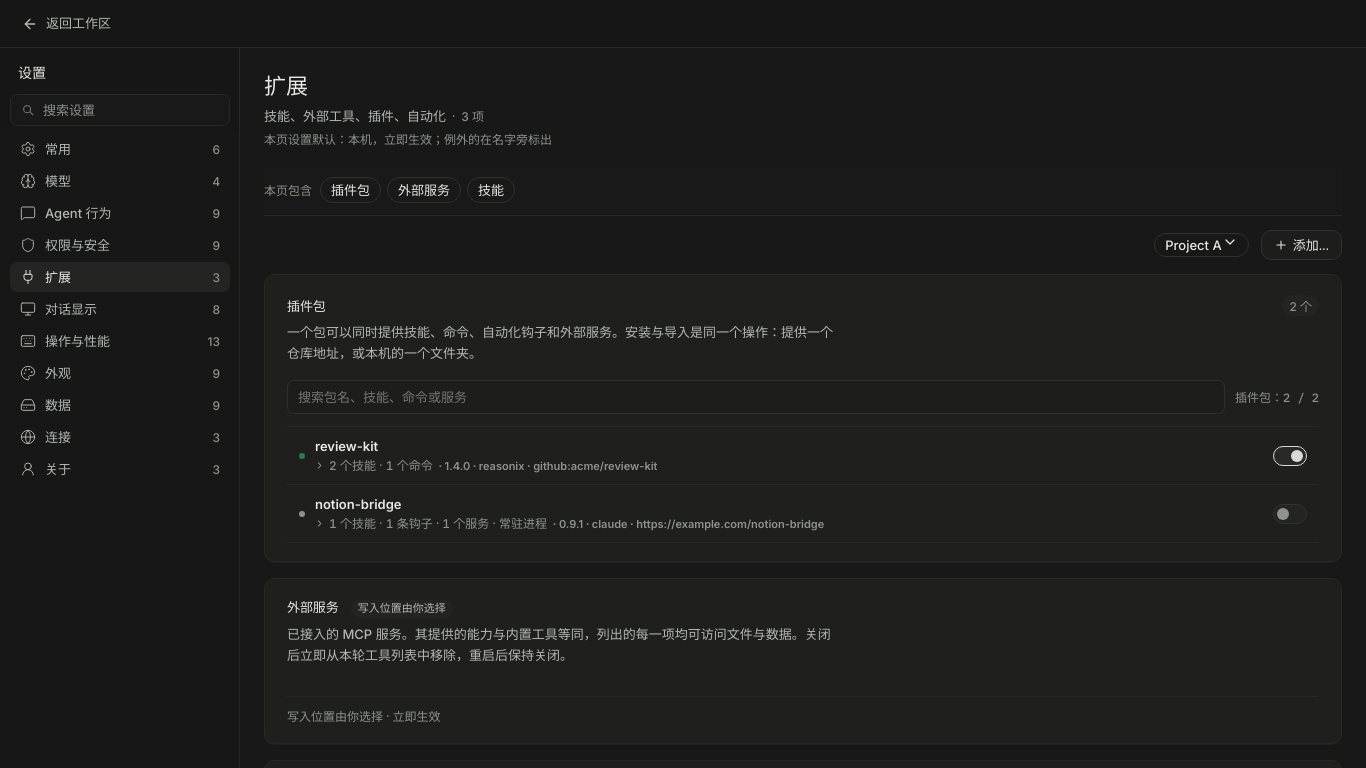
Test case: keeps the selected project's skills when the previous read finishes late
The width and height of the screenshot is (1366, 768).
Click the tab "权限与安全 9". click: click(120, 245)
box: [10,230,230,260]
(page scrolled)
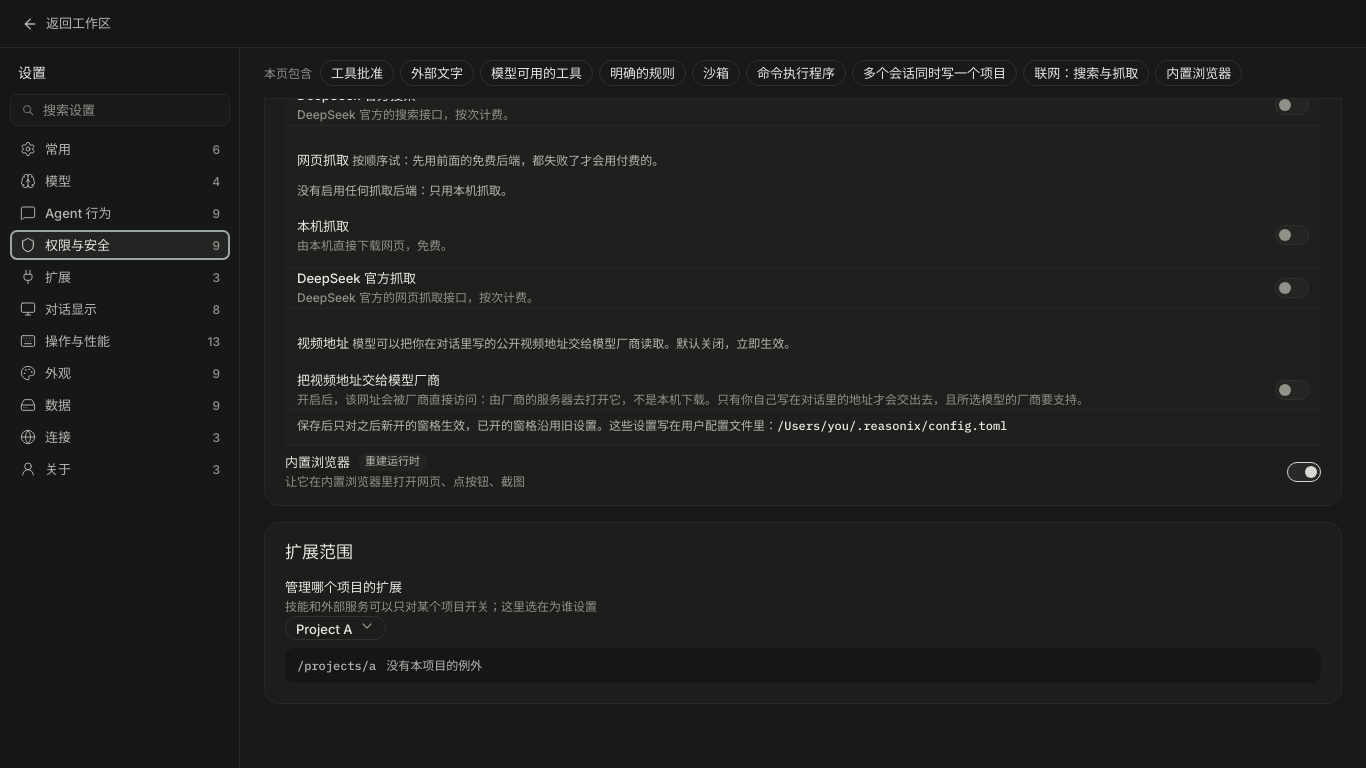
Click the button "Project A". click: click(335, 628)
box: [285,616,386,640]
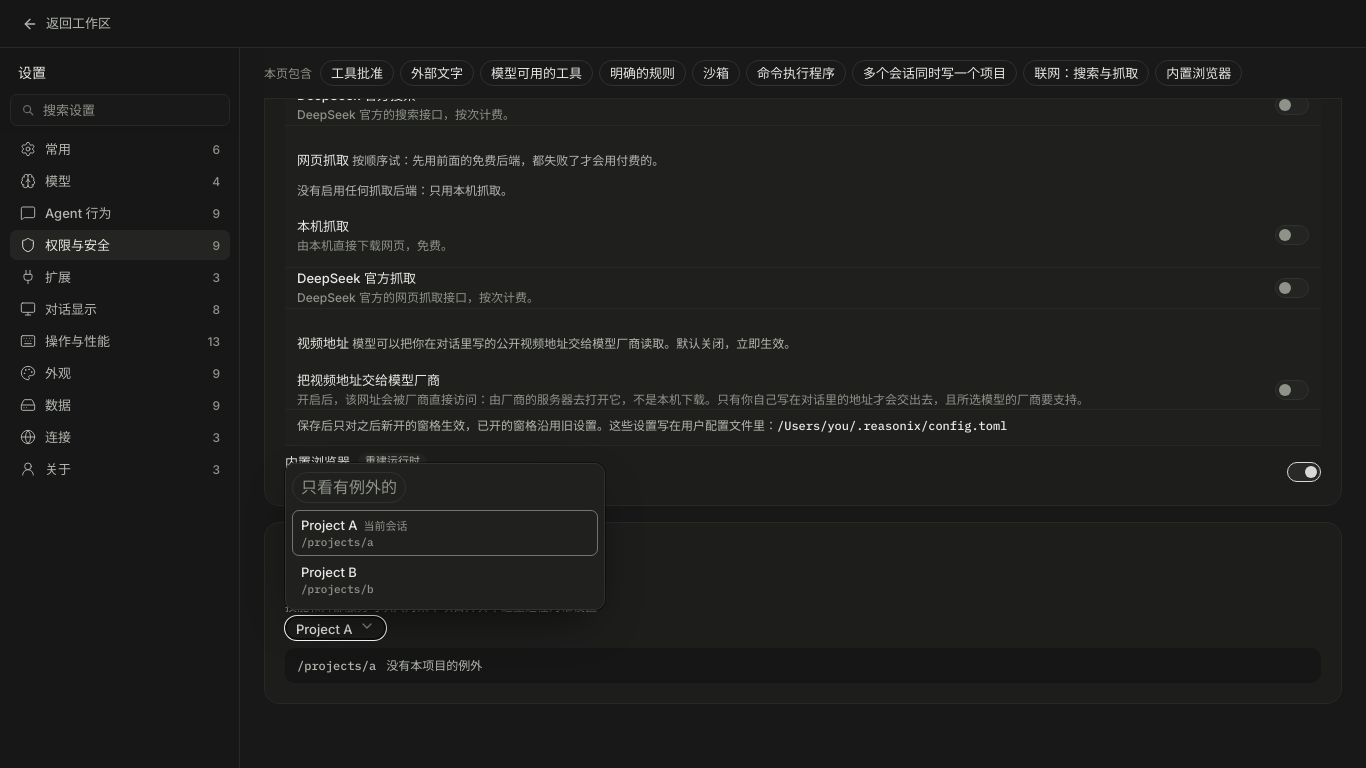
Click the option "Project B /projects/b". click: click(329, 572)
box: [292,557,598,603]
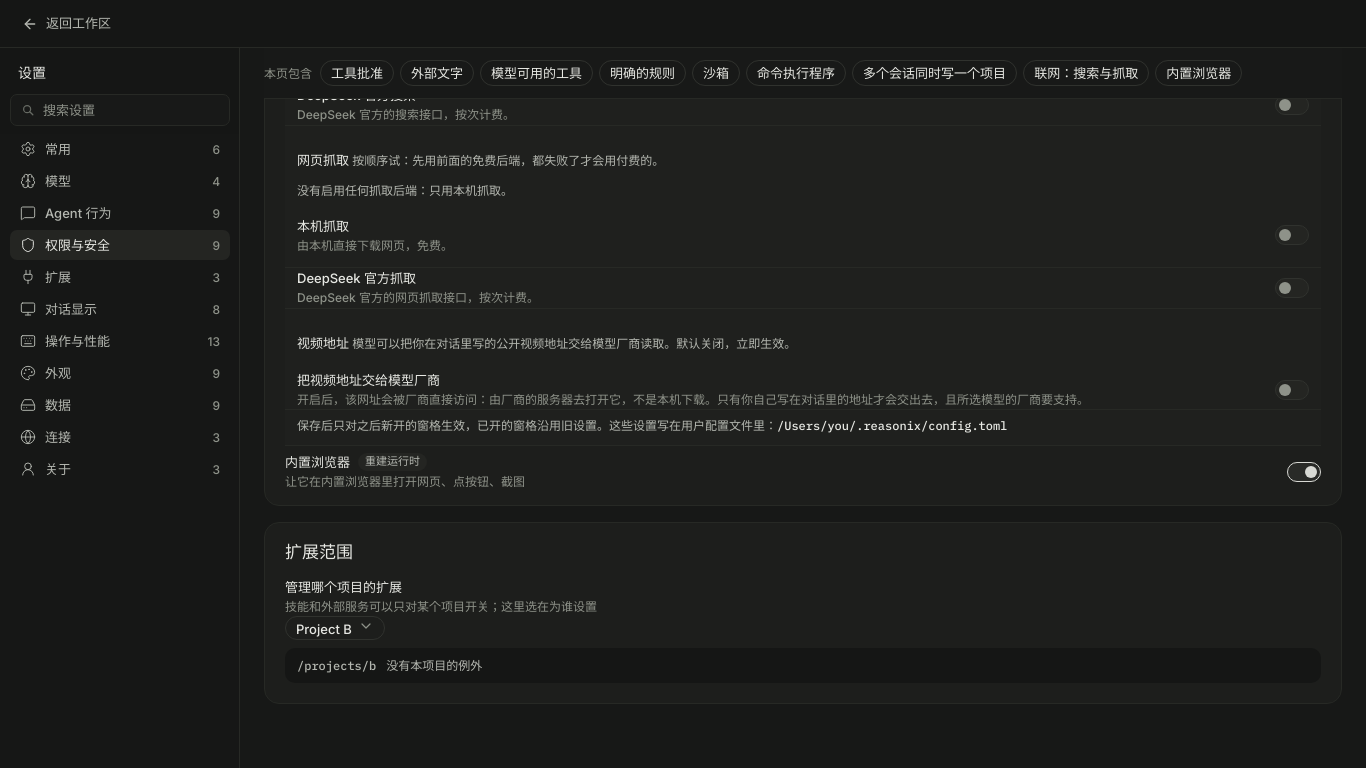
Click the tab "扩展 3". click: click(120, 277)
box: [10,262,230,292]
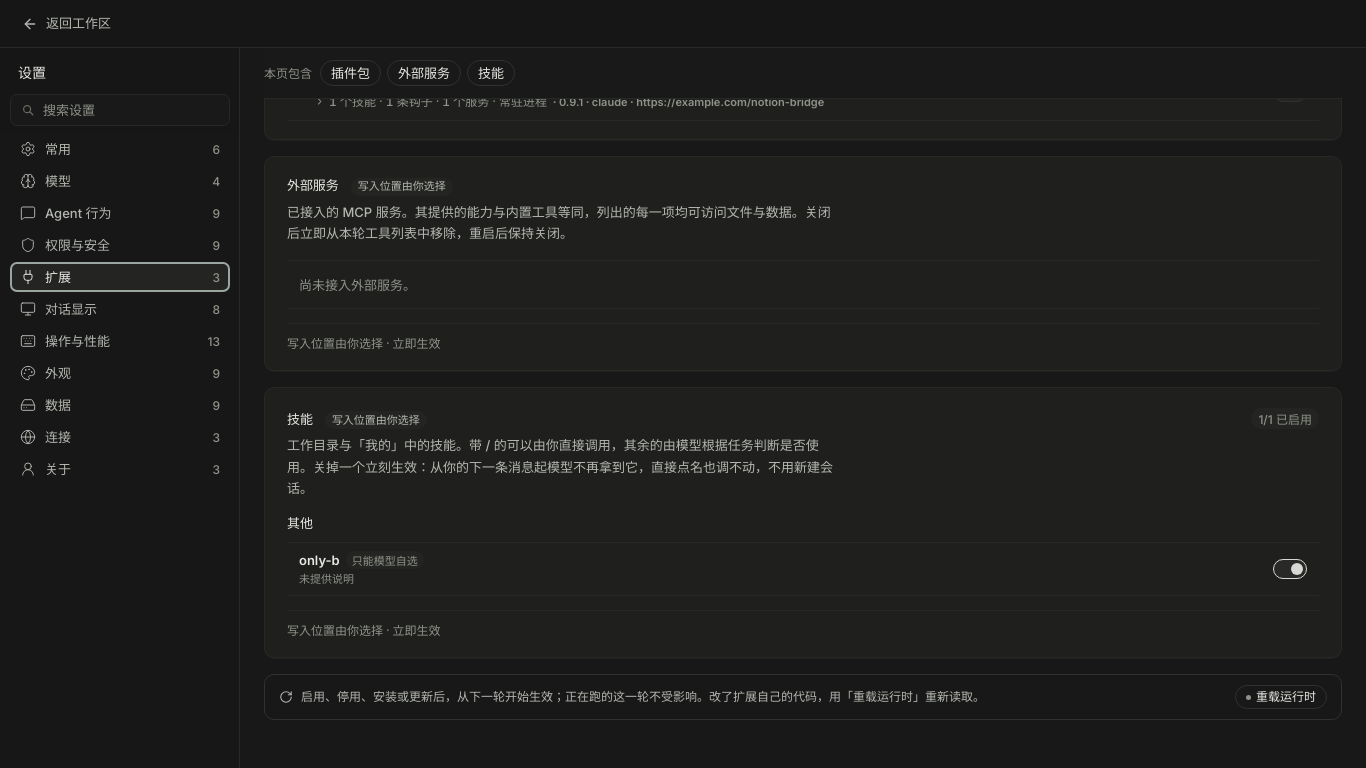
Expected: the text "only-b" is shown, [299,552,340,568]
